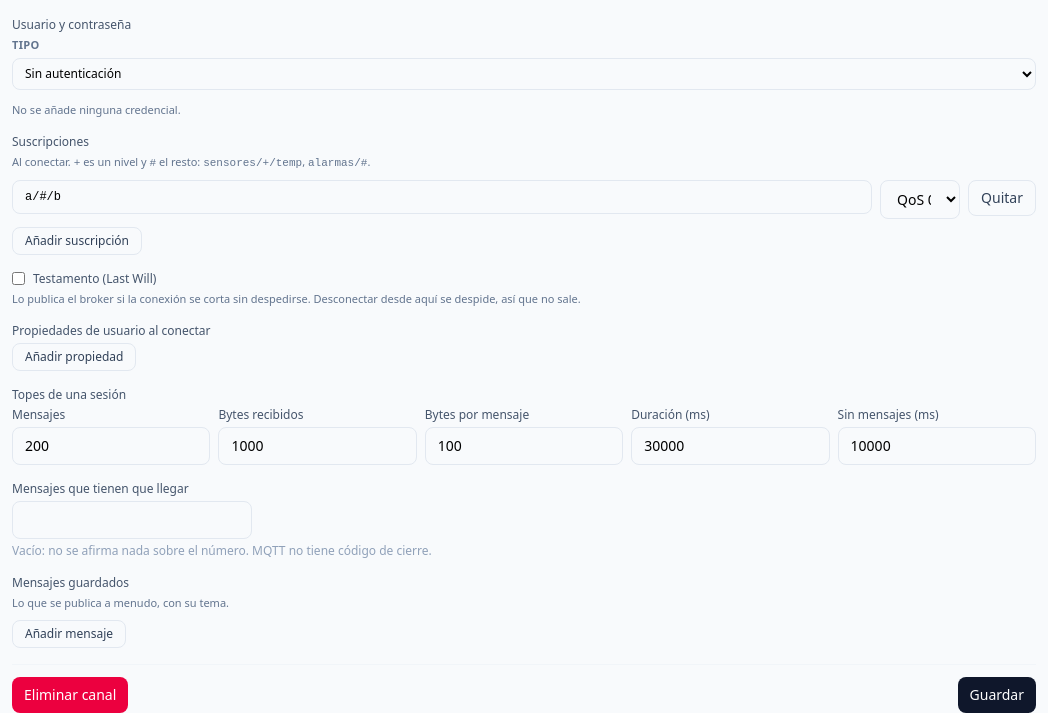
it: la configuración de un canal MQTT › los errores de «Guardar» salen junto a su campo
The width and height of the screenshot is (1048, 713).
(page scrolled)
Click the button "Guardar" at (997, 694), box [958,676,1036,712]
(page scrolled)
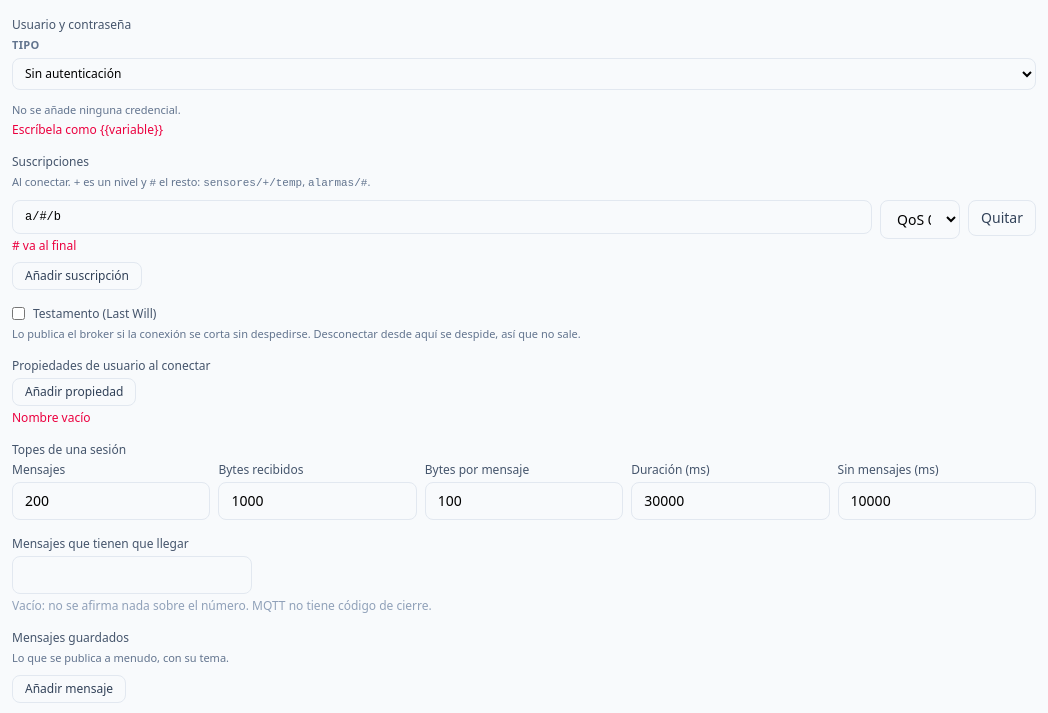
Result: the text "Escríbela como {{variable}}" is shown at [12,121,163,138]
Result: the text "# va al final" is shown at [12,236,76,254]
Result: the text "Nombre vacío" is shown at [12,409,90,426]
